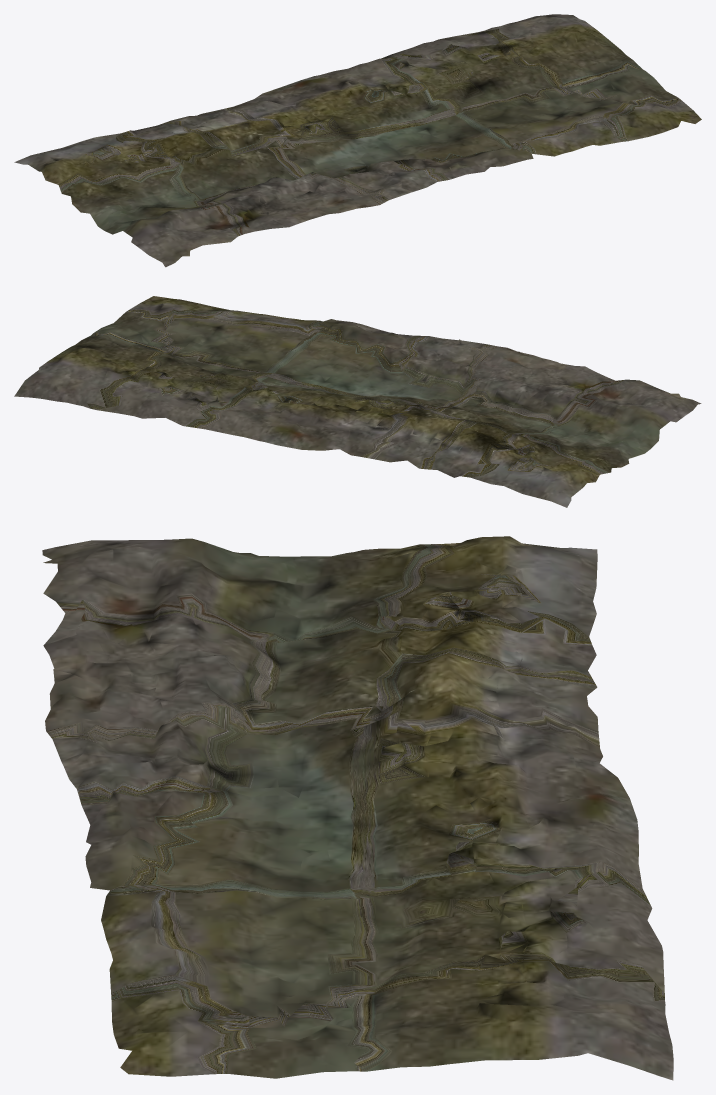
The model's file is coast_line_02_lod2.glb.
3 views of the same model, one above another, from view 1: azimuth 30°, elevation 25°; view 2: azimuth 150°, elevation 25°; view 3: azimuth 270°, elevation 25° (orthographic). The views are drawn at different scales.
Visible parts, largest first — view 1: coast_line_02; view 2: coast_line_02; view 3: coast_line_02.
Part boxes in pixels (x1,y1,x2,y2): coast_line_02: (14,14,701,267); coast_line_02: (14,296,701,507); coast_line_02: (42,536,673,1080).
Bounding box in the file's own units: 45.53 × 2.05 × 23.28.
1 material, 1 textured.
